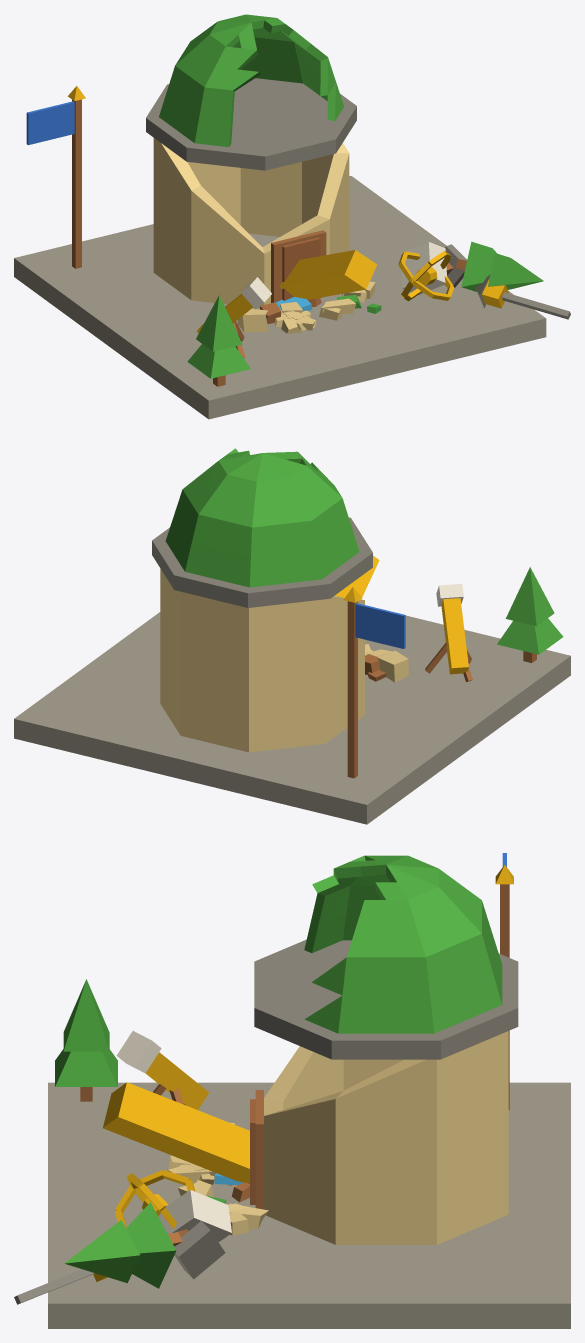
The model's file is observatory_t2_v2_dmg1.glb.
3 renders of one model, top to bottom at view 1: azimuth 30°, elevation 25°; view 2: azimuth 150°, elevation 25°; view 3: azimuth 270°, elevation 25°, orthographic. The views are drawn at different scales.
Parts seen in each view (by area): view 1: observatory_t2_v2_dmg1; view 2: observatory_t2_v2_dmg1; view 3: observatory_t2_v2_dmg1.
Part boxes in pixels (box(x1,y1,x2,y2)): observatory_t2_v2_dmg1: box(14, 14, 570, 419); observatory_t2_v2_dmg1: box(14, 448, 570, 824); observatory_t2_v2_dmg1: box(14, 853, 570, 1328).
Size of the model in its own units: 0.8074 by 0.56 by 0.799.
Materials: 1 (1 with a texture image).
